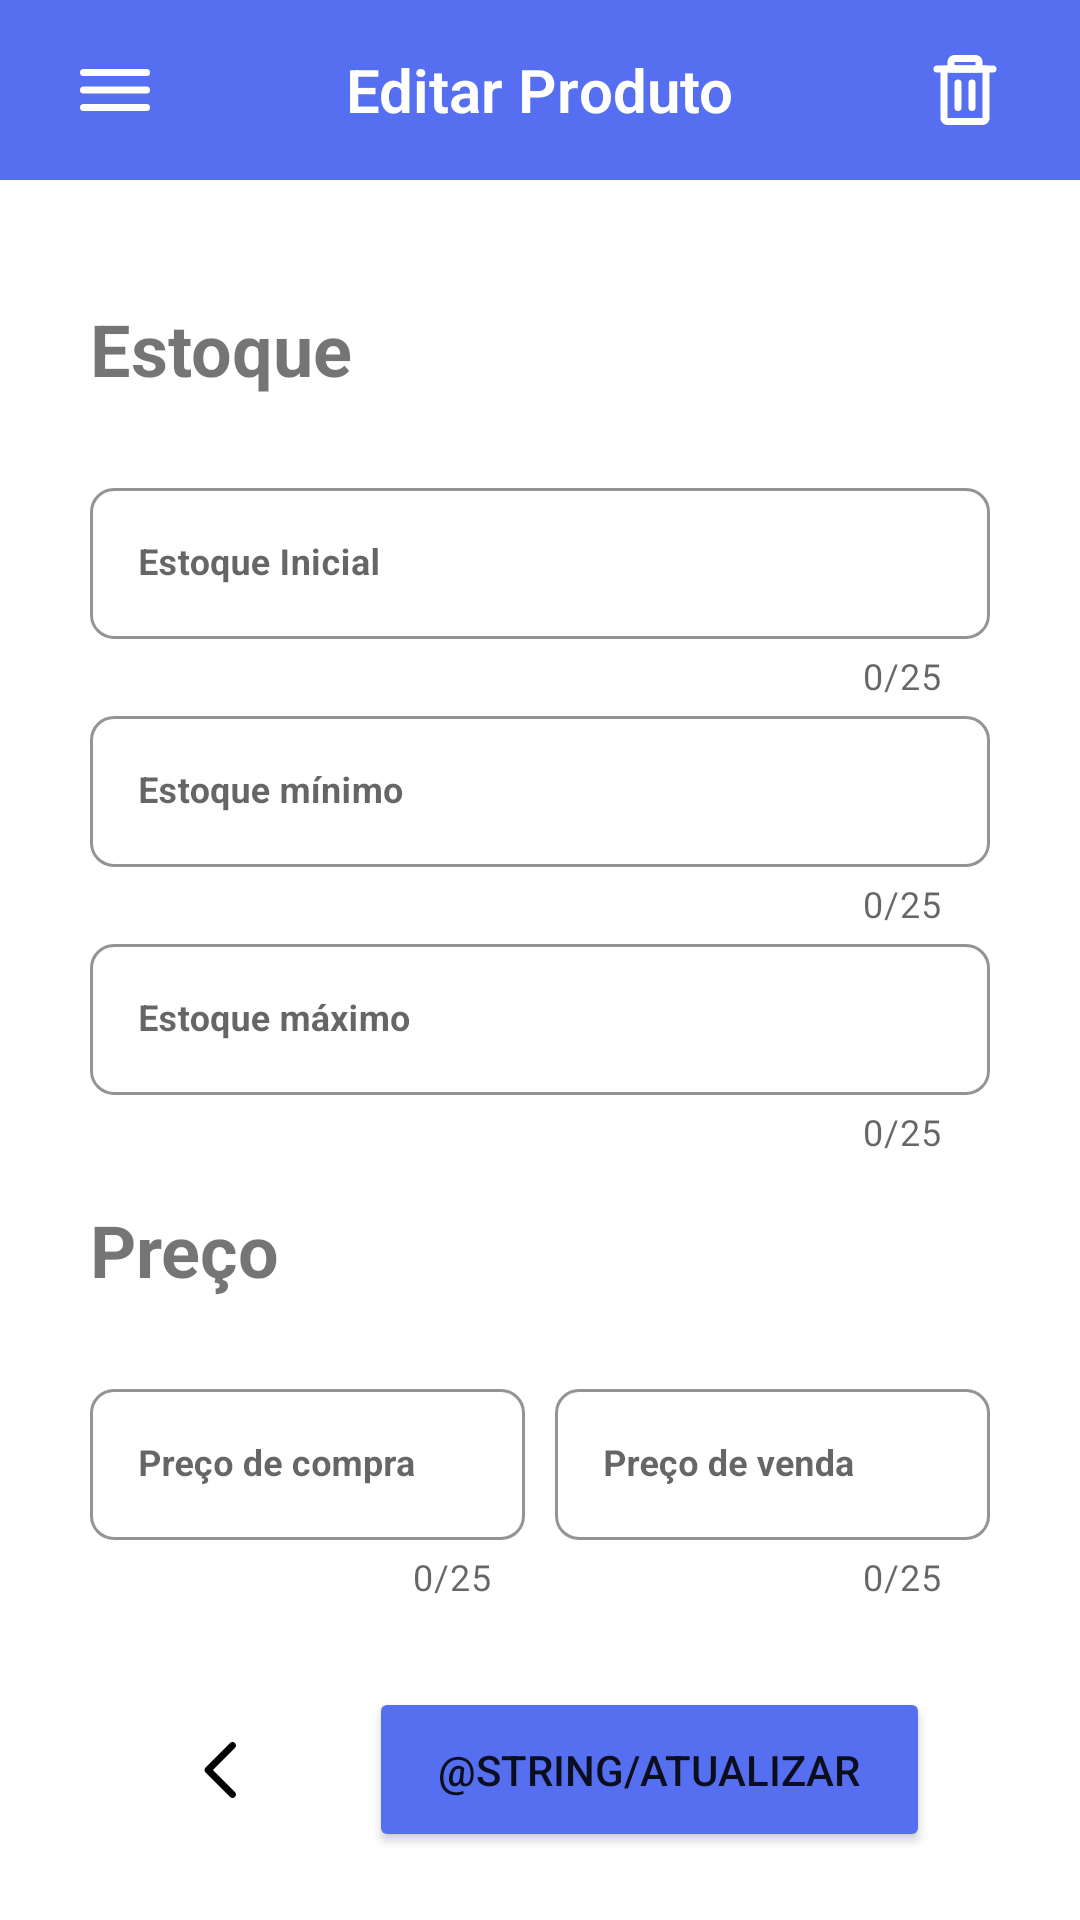

Screen size 1080*1920. Icon name, then its box in pixels as bbox(x1, y1, x2, y2):
chevron left: bbox(204, 1742, 236, 1798)
hamburger lg: bbox(80, 69, 150, 111)
trash full: bbox(933, 55, 997, 125)
